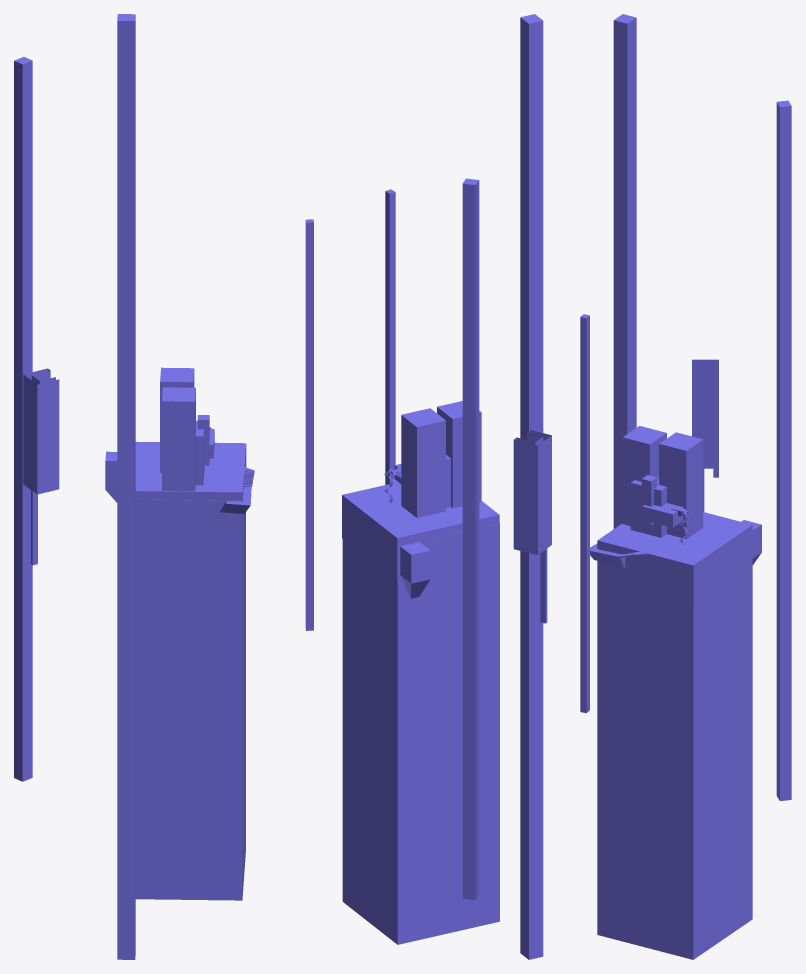
Rendered from tootl-museum.glb.
The picture shows the model from 3 angles, left to right: view 1: azimuth 30°, elevation 25°; view 2: azimuth 150°, elevation 25°; view 3: azimuth 270°, elevation 25°; orthographic projection. The views are drawn at different scales.
Visible parts, largest first — view 1: Hallway; view 2: Hallway; view 3: Hallway.
Part boxes in pixels (<box>): Hallway: <box>14,14,313,959</box>; Hallway: <box>342,14,551,959</box>; Hallway: <box>580,14,791,959</box>.
Size of the model in its own units: 406 by 1643 by 347.
